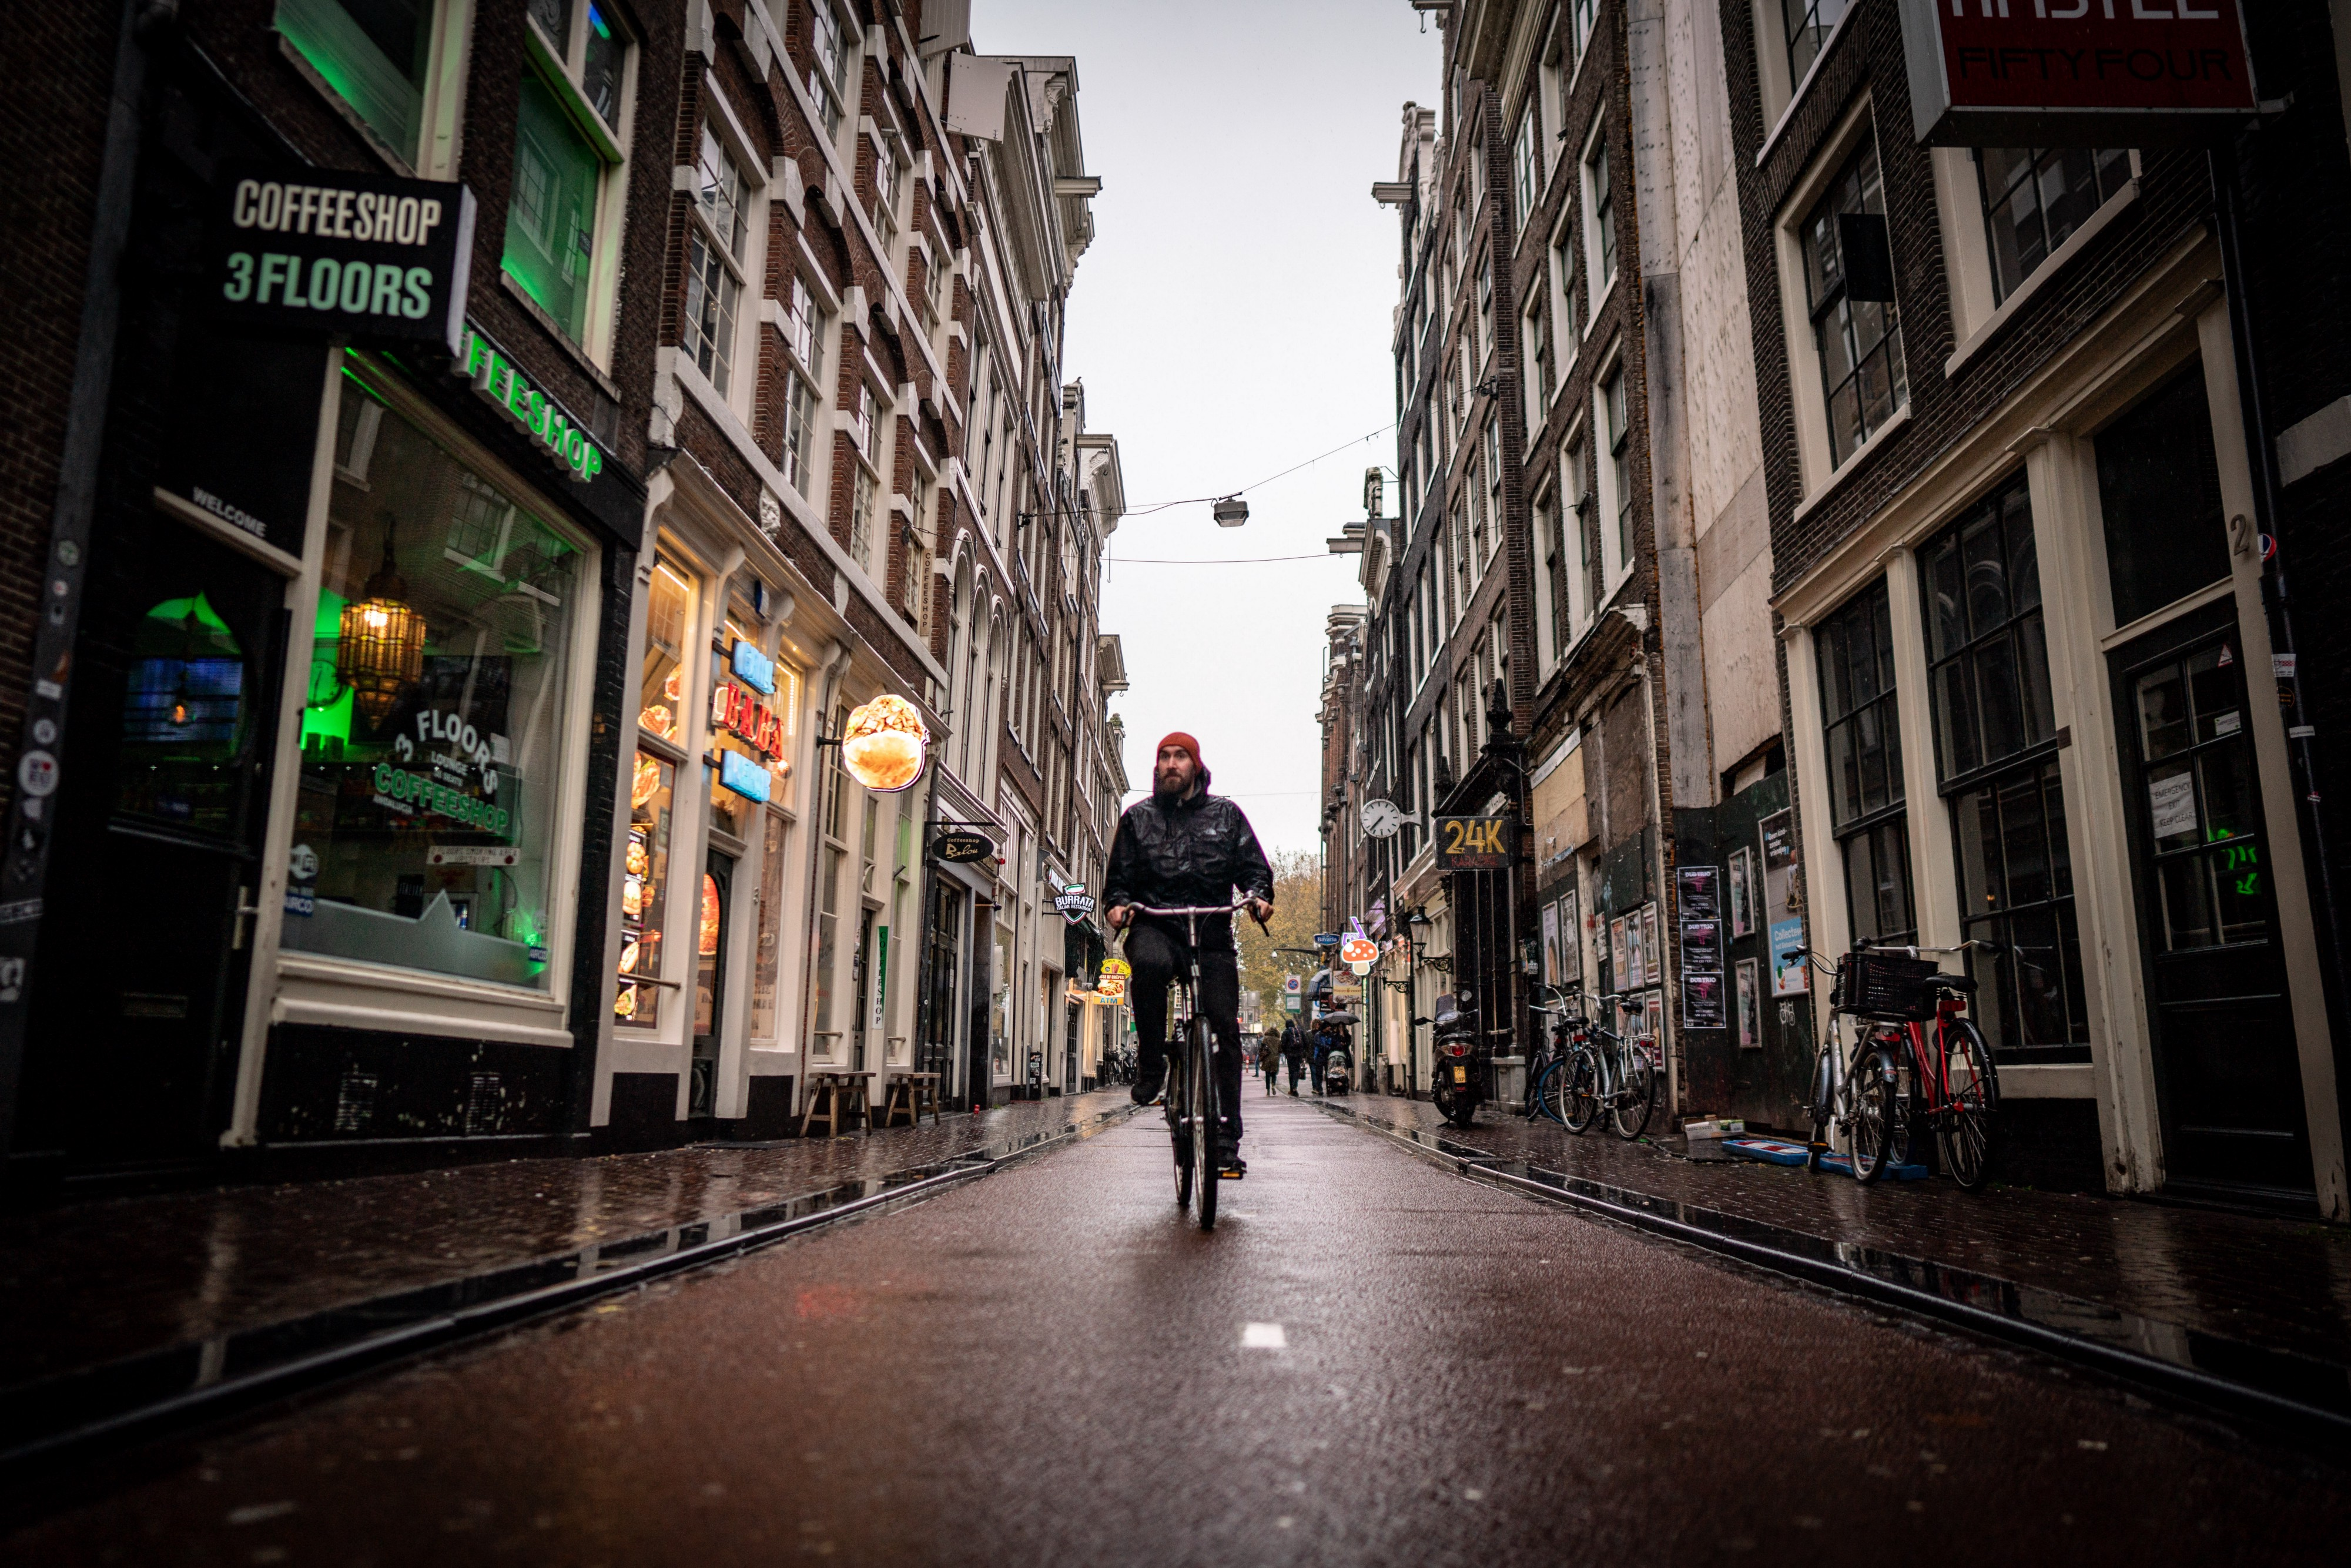commuter: (1102, 735, 1287, 1236)
